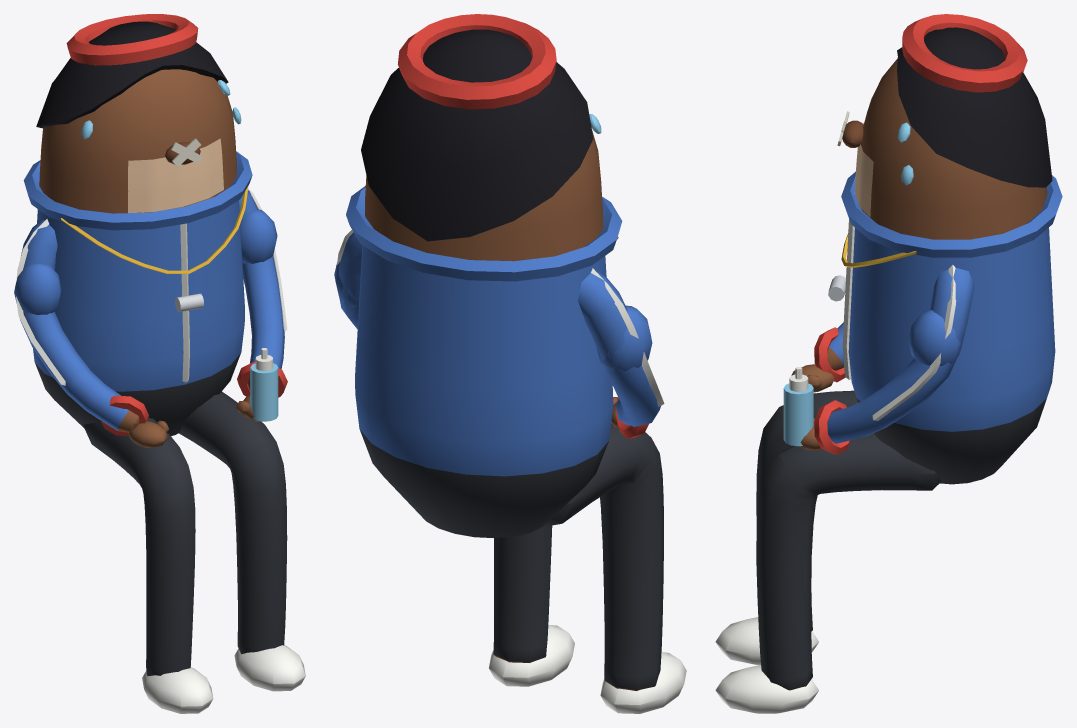
The model's file is VivoDeportista.fbx.
3 renders of one model, left to right at view 1: azimuth 30°, elevation 25°; view 2: azimuth 150°, elevation 25°; view 3: azimuth 270°, elevation 25°, orthographic. The views are drawn at different scales.
Visible parts, largest first — view 1: Cuerpo, PiernaIzq, PiernaDer, BrazoDer, BrazoIzq, Boca; view 2: Cuerpo, PiernaDer, PiernaIzq, BrazoDer, BrazoIzq; view 3: Cuerpo, PiernaIzq, BrazoIzq, PiernaDer, BrazoDer, Boca.
Part boxes in pixels (x1,y1,x2,y2): Cuerpo: (23, 14, 252, 436); PiernaIzq: (179, 391, 305, 691); PiernaDer: (83, 418, 213, 713); BrazoDer: (14, 219, 168, 448); BrazoIzq: (236, 188, 287, 421); Boca: (128, 138, 223, 213); Cuerpo: (346, 14, 622, 538); PiernaDer: (543, 423, 686, 713); PiernaIzq: (489, 525, 574, 686); BrazoDer: (578, 268, 664, 439); BrazoIzq: (334, 230, 362, 328); Cuerpo: (828, 14, 1062, 484); PiernaIzq: (715, 433, 941, 713); BrazoIzq: (783, 265, 974, 454); PiernaDer: (715, 390, 857, 665); BrazoDer: (791, 322, 845, 392); Boca: (855, 123, 873, 216).
Bounding box in the file's own units: 2.21 × 4.96 × 2.4.
Materials: 2 (1 with a texture image).
